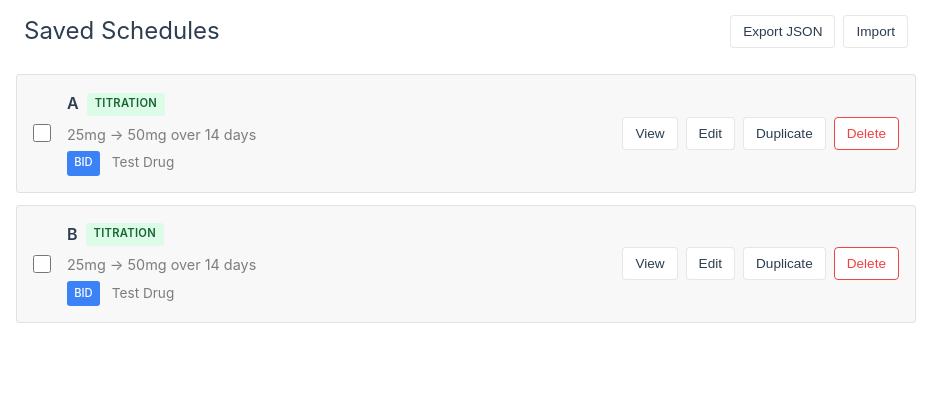
it: ScheduleList › compare selection › shows compare button when 2 or more selected
The image size is (933, 393).
Click the 1st checkbox with class "compare-checkbox" at (42, 134), box left=33, top=124, right=51, bottom=142
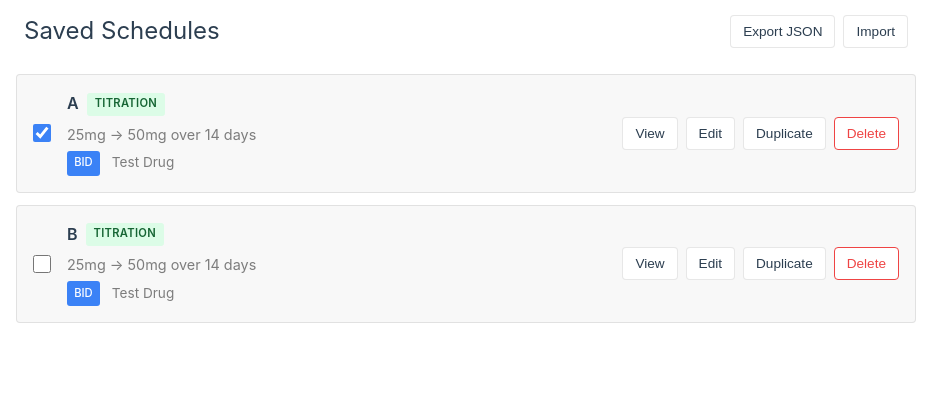
Click the 2nd checkbox with class "compare-checkbox" at (42, 264), box left=33, top=255, right=51, bottom=273
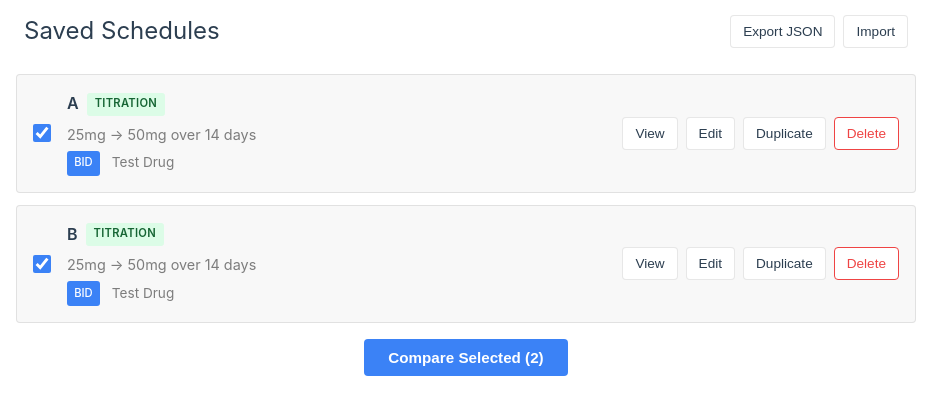
Check: the button with test id "compare-btn" is shown, box left=364, top=339, right=568, bottom=376
